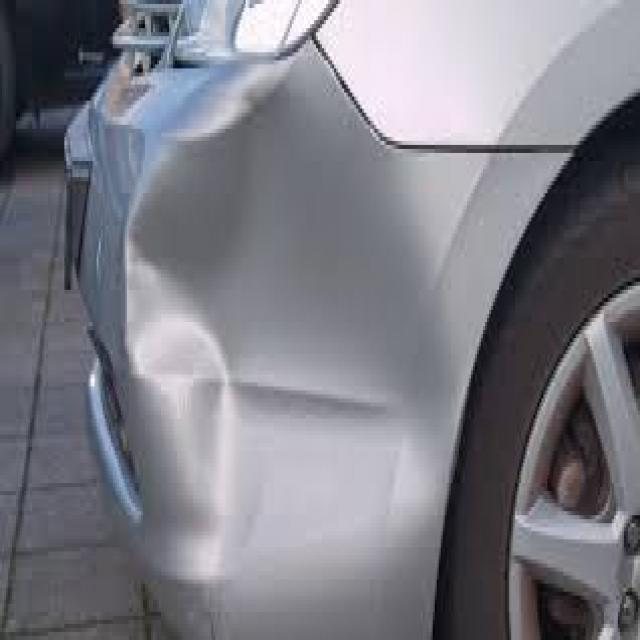minor: (92, 87, 420, 498)
